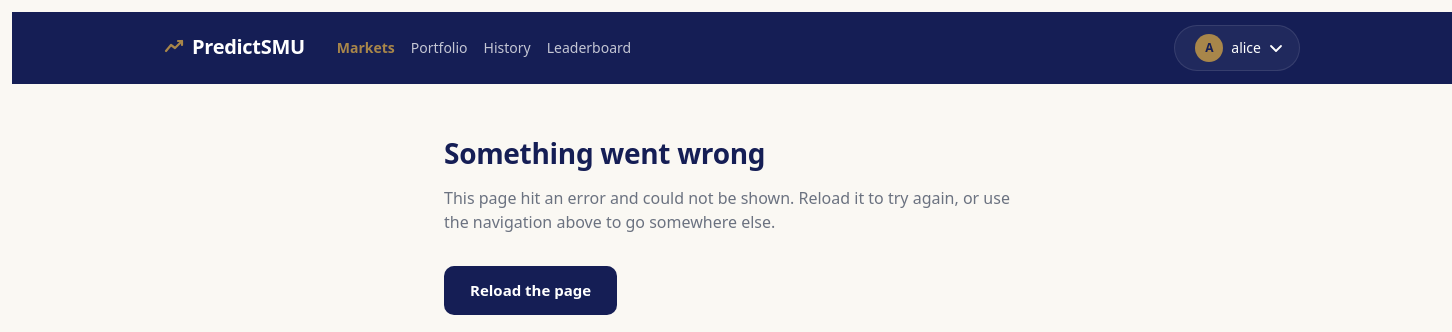
Scenario: ErrorBoundary › clears the fault once the user navigates somewhere else
Click the link "Portfolio".
click(439, 48)  # box [411, 38, 468, 58]
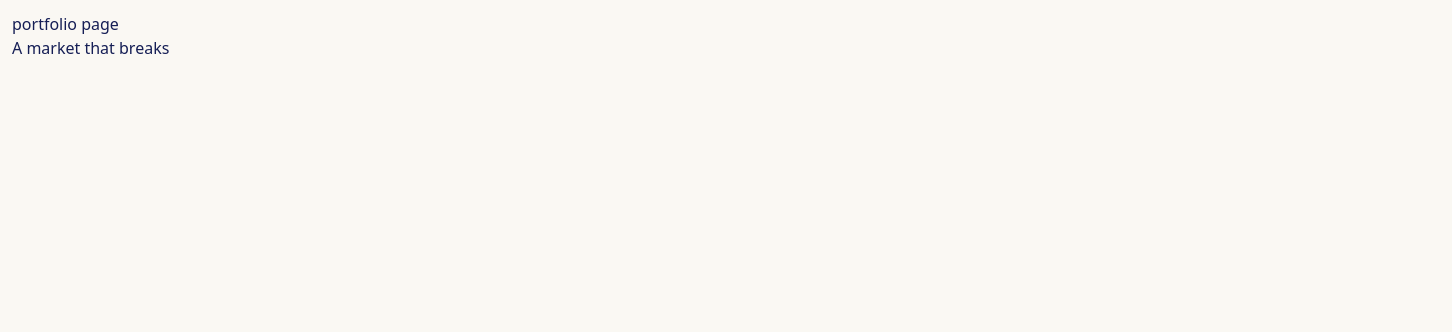
expect the text "portfolio page" is shown: met, box [12, 13, 119, 35]
expect the heading "Something went wrong" is gone: met
